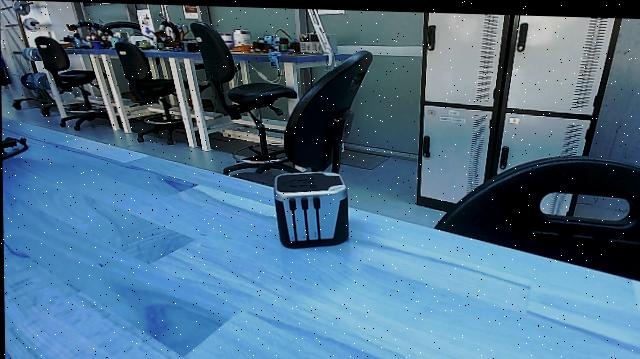adapter: (269, 168, 354, 259)
